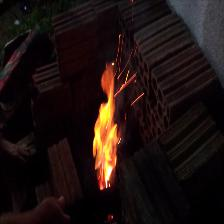fire: (77, 49, 156, 197)
